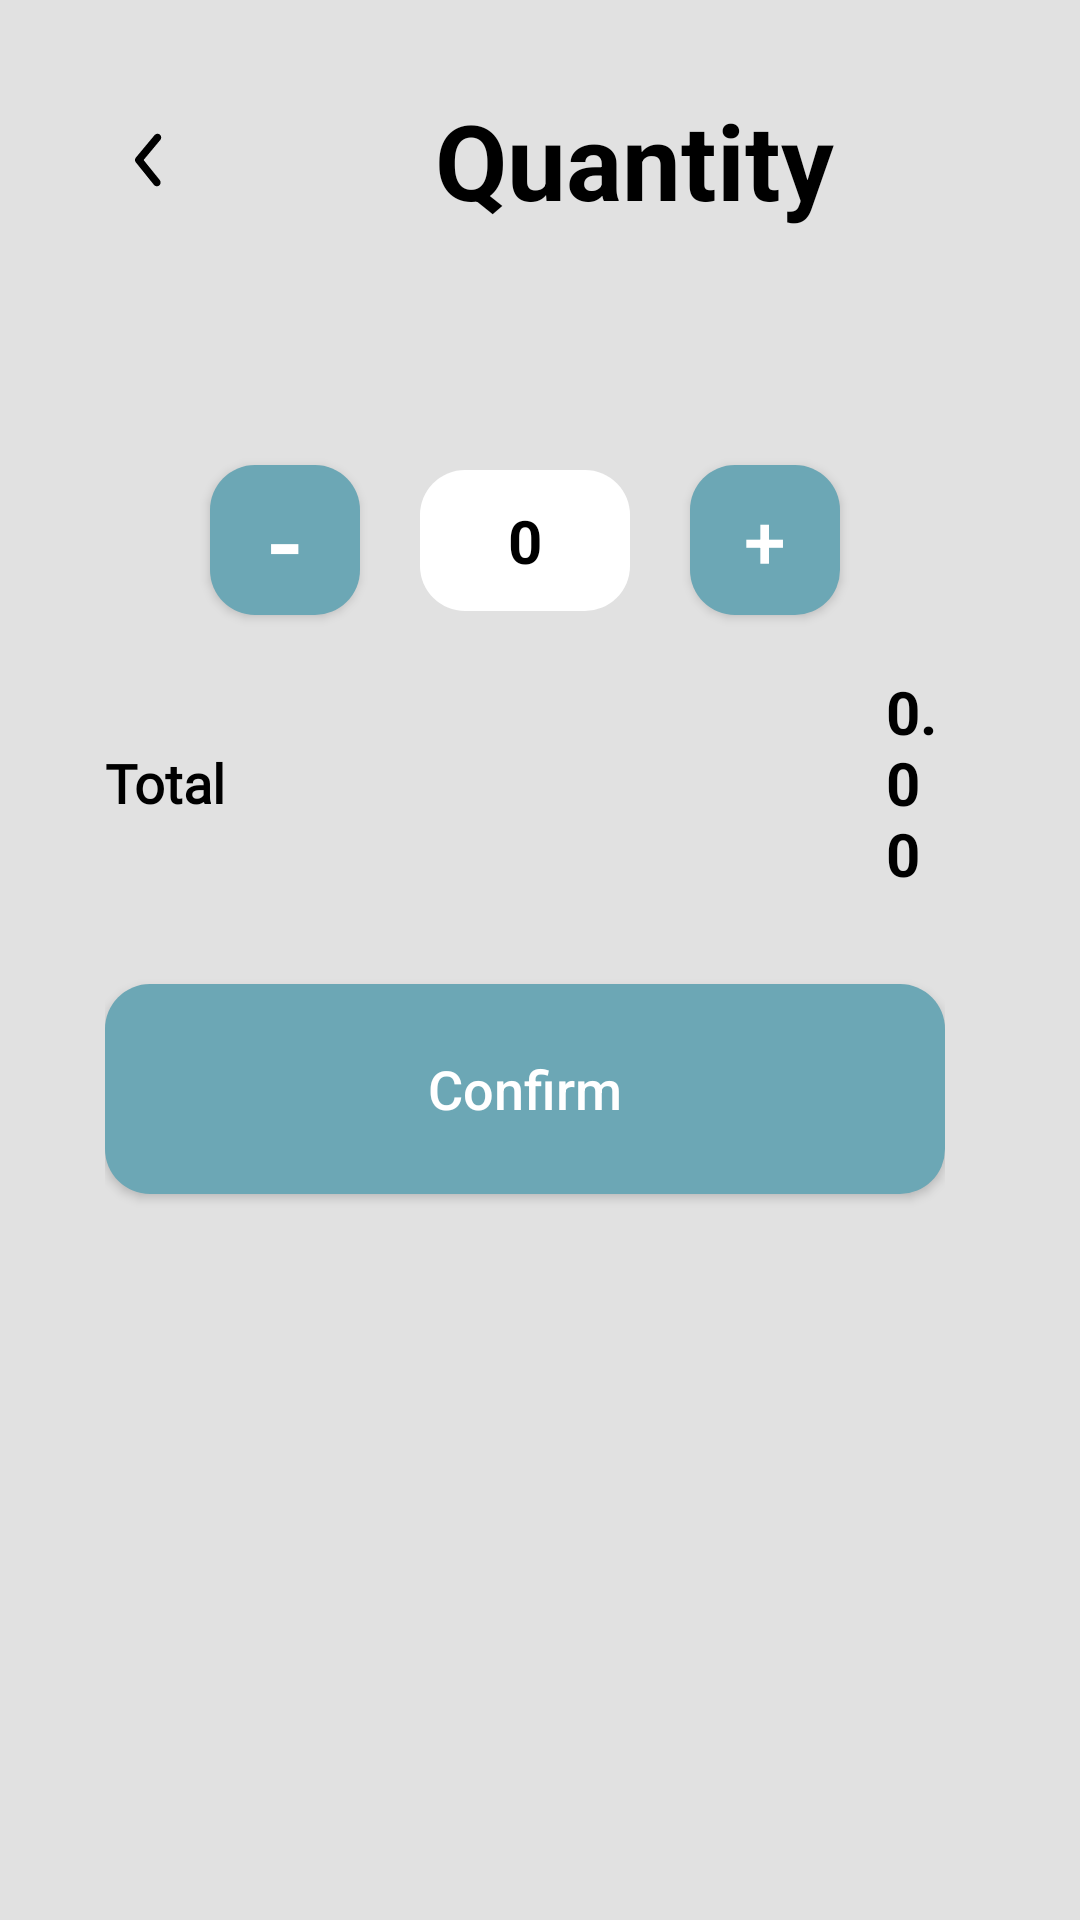

Named icons in this screenshot (1080w x 1920h) and their bounding boxes, (x1, y1, x2, y2):
back: (135, 133, 162, 187)
